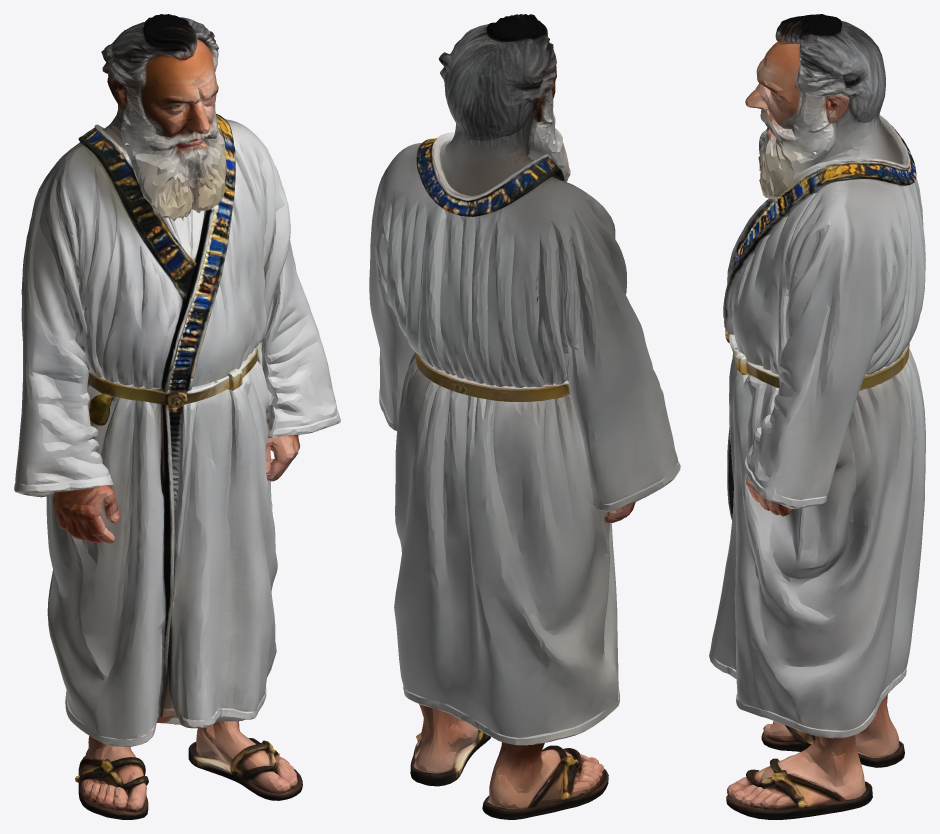
The model's file is uruk_elder_rodin_source.glb.
The picture shows the model from 3 angles, left to right: view 1: azimuth 30°, elevation 25°; view 2: azimuth 150°, elevation 25°; view 3: azimuth 270°, elevation 25°; orthographic projection.
Parts seen in each view (by area): view 1: model; view 2: model; view 3: model.
Boxes of the visible parts, x1,y1,x2,y2 form: model: (14,14,340,819); model: (369,14,680,819); model: (709,14,925,819).
Bounding box in the file's own units: 0.7975 × 1.9 × 0.4954.
1 material, 1 textured.
